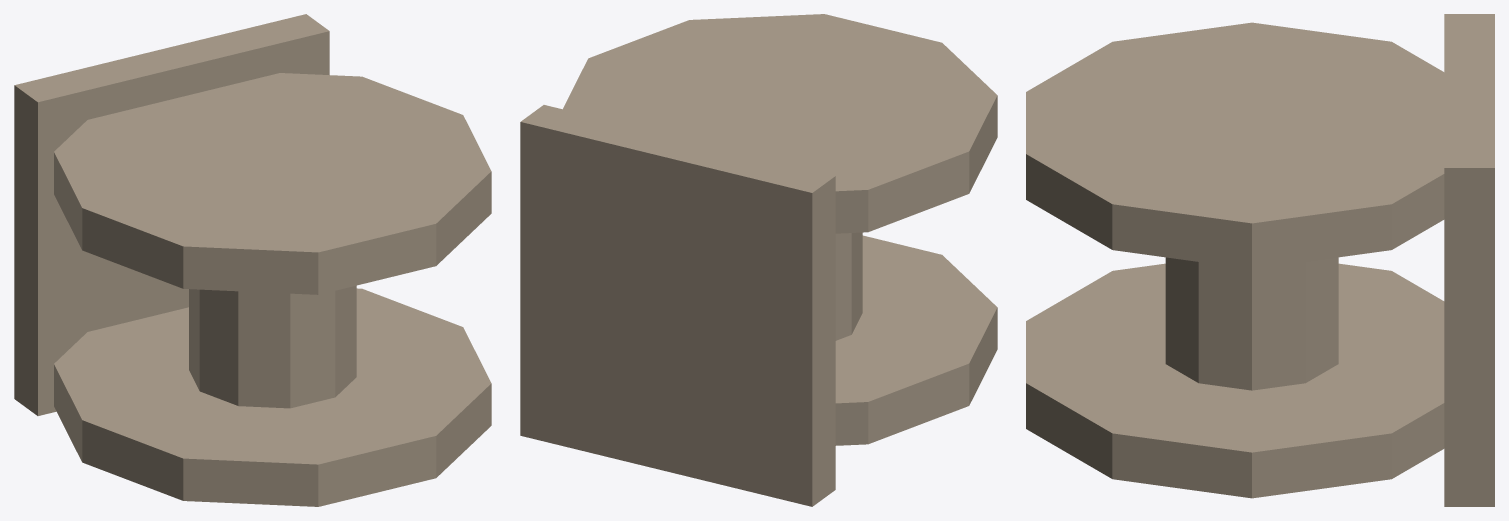
File: electrical-cable-reel_lod0.glb
3 views of the same model, side by side, from view 1: azimuth 30°, elevation 25°; view 2: azimuth 150°, elevation 25°; view 3: azimuth 270°, elevation 25° (orthographic). The views are drawn at different scales.
Parts seen in each view (by area): view 1: world; view 2: world; view 3: world.
Boxes of the visible parts, box(x1,y1,x2,y2) form: world: box(14, 14, 491, 506); world: box(520, 14, 997, 506); world: box(1026, 14, 1494, 506).
Bounding box in the file's own units: 0.94 × 0.74 × 0.927.
